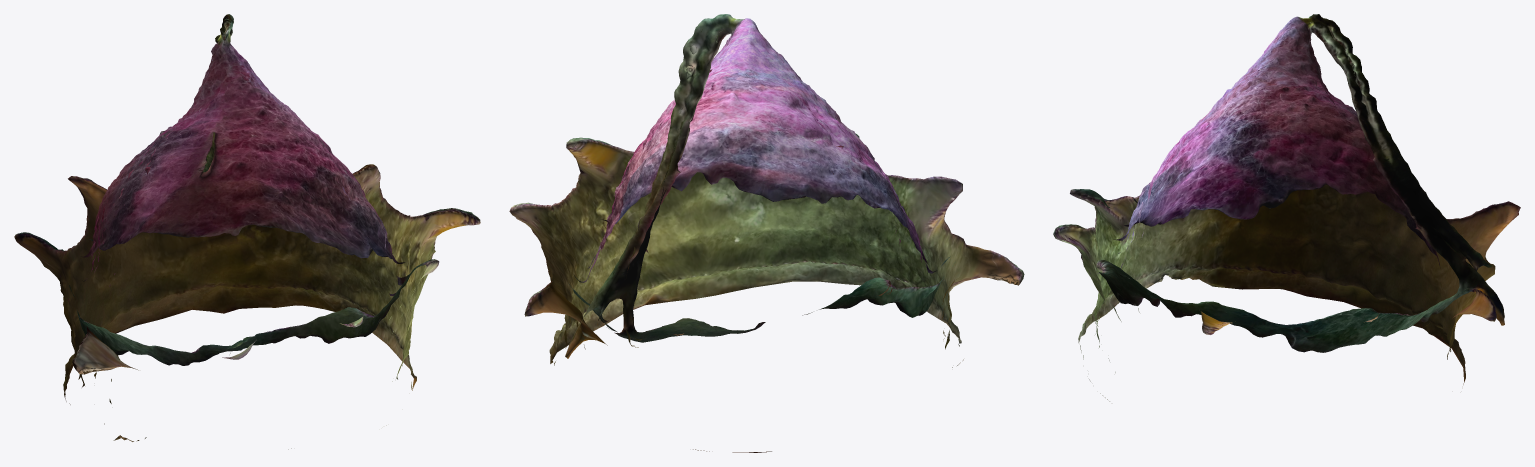
Rendered from hat.glb.
3 views of the same model, side by side, from view 1: azimuth 30°, elevation 25°; view 2: azimuth 150°, elevation 25°; view 3: azimuth 270°, elevation 25° (orthographic). The views are drawn at different scales.
Visible parts, largest first — view 1: Mesh_0; view 2: Mesh_0; view 3: Mesh_0.
Boxes of the visible parts, bbox=[...] form: Mesh_0: bbox=[14, 14, 480, 449]; Mesh_0: bbox=[509, 14, 1024, 452]; Mesh_0: bbox=[1053, 14, 1520, 401].
Size of the model in its own units: 1.01 by 0.8156 by 0.9449.
Materials: 1 (1 with a texture image).
